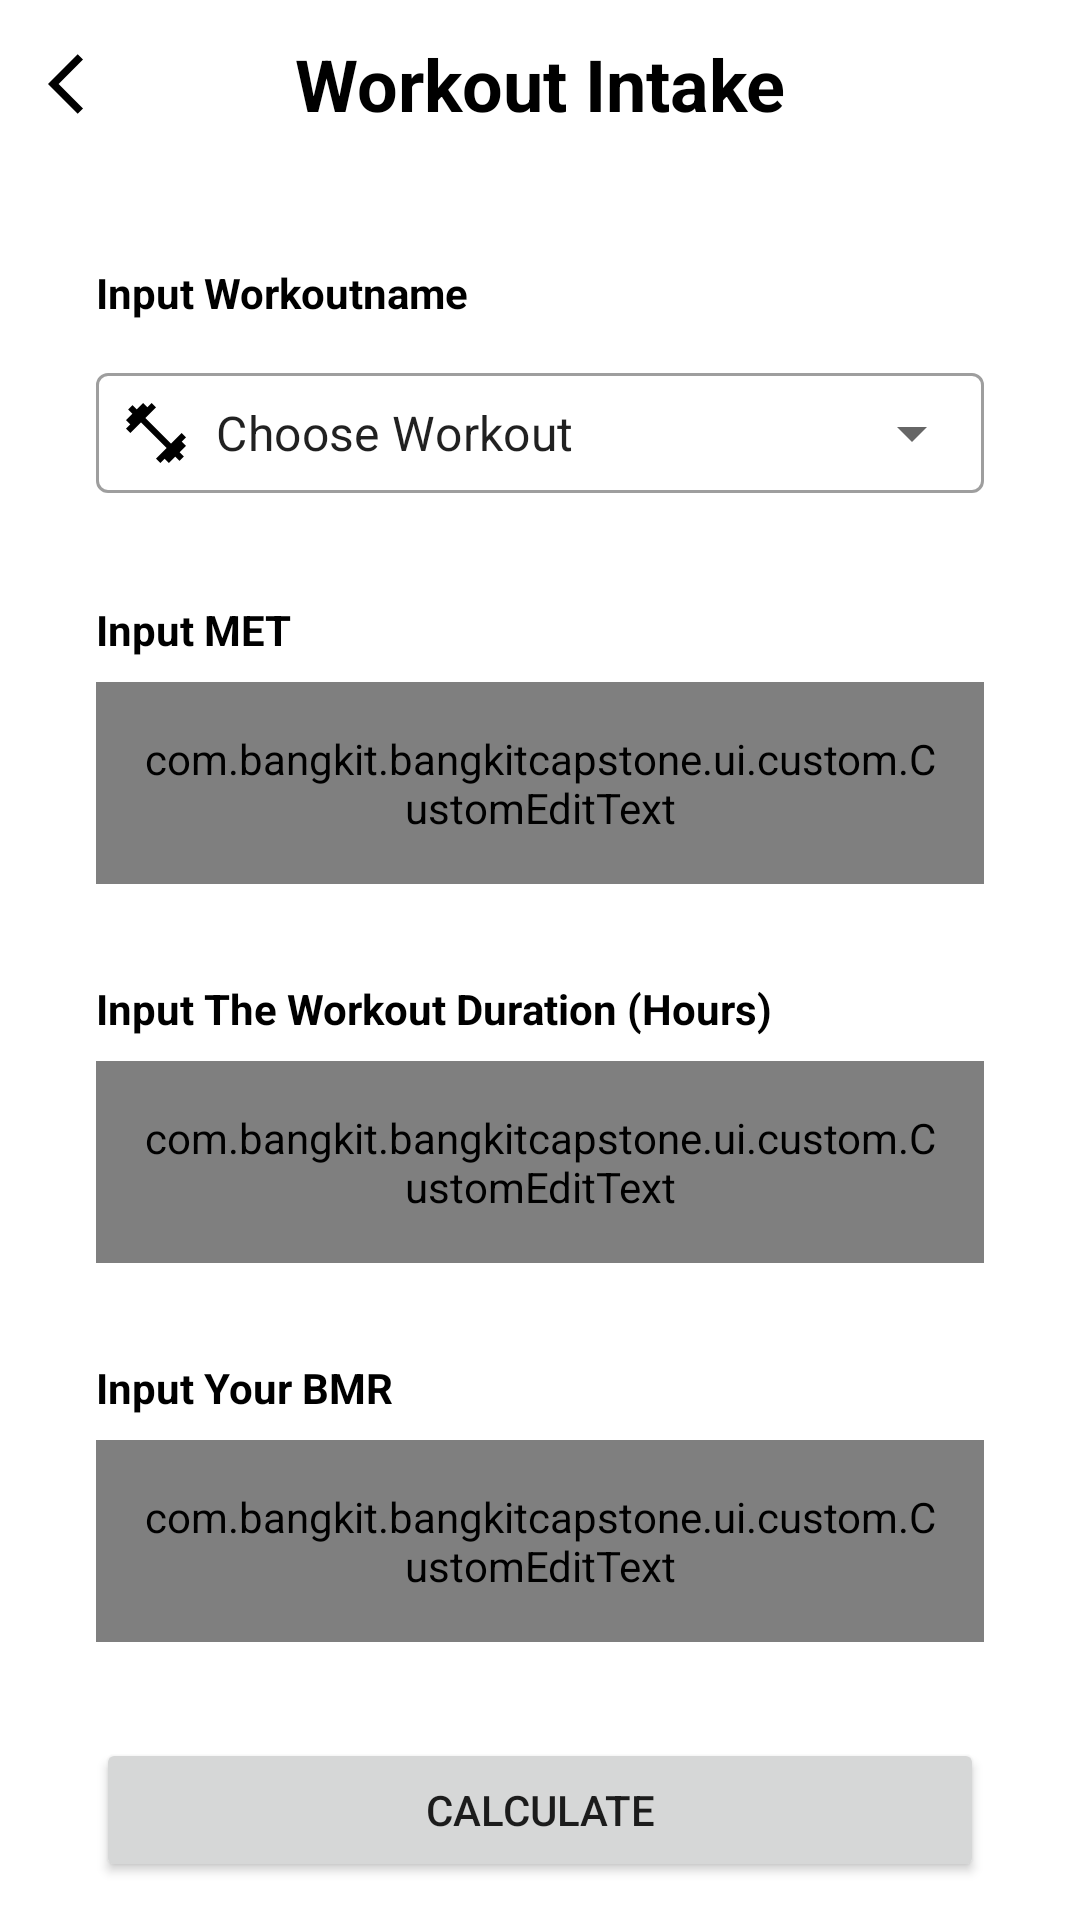

Locate icon controls on the screen. Image size 1080x1920, boxes as (x1, y1, x2, y2).
Back Button: (48, 54, 83, 114)
